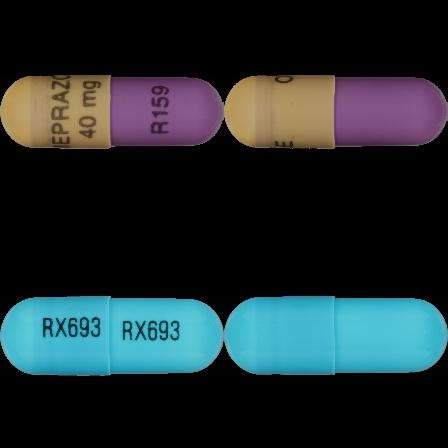33261-441: (0, 0, 224, 224)
